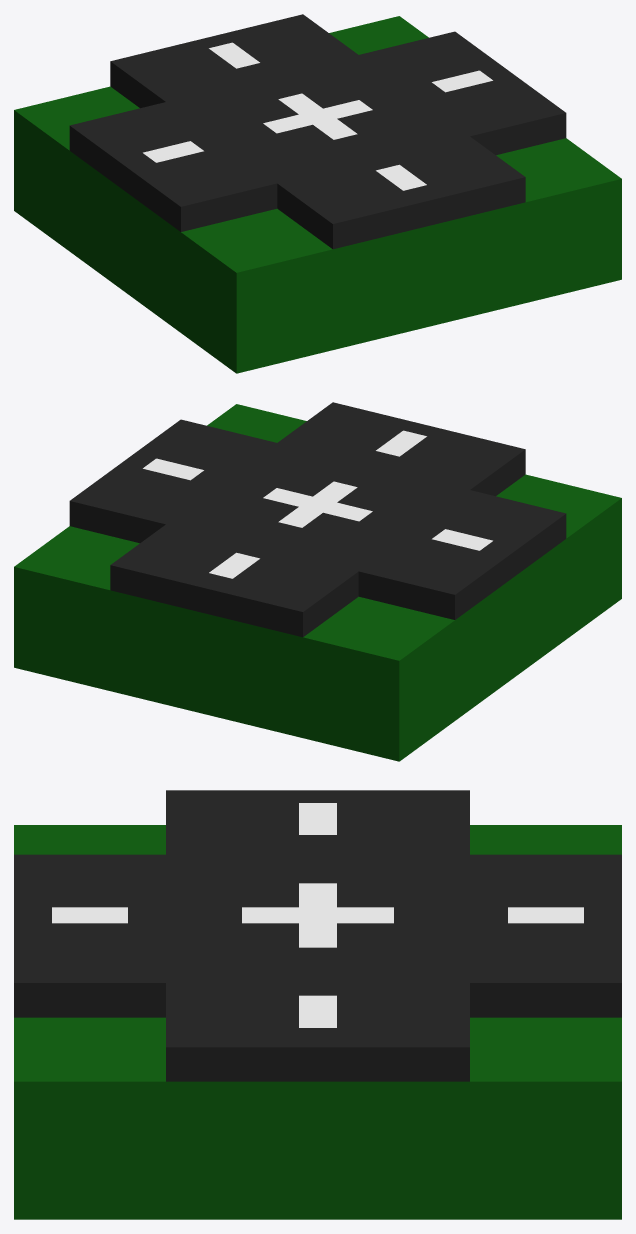
The model's file is crossing.obj.
3 renders of one model, top to bottom at view 1: azimuth 30°, elevation 25°; view 2: azimuth 150°, elevation 25°; view 3: azimuth 270°, elevation 25°, orthographic. The views are drawn at different scales.
Visible parts, largest first — view 1: grass, road, plane; view 2: grass, road, plane; view 3: road, grass, plane.
Part boxes in pixels (bbox=[...]): grass: bbox=[14, 16, 621, 373]; road: bbox=[69, 14, 566, 249]; plane: bbox=[143, 42, 492, 190]; grass: bbox=[14, 404, 621, 761]; road: bbox=[69, 402, 566, 637]; plane: bbox=[143, 430, 492, 578]; road: bbox=[14, 790, 621, 1081]; grass: bbox=[14, 825, 621, 1219]; plane: bbox=[52, 803, 583, 1027].
Size of the model in its own units: 0.25 by 0.0797 by 0.25.
Materials: 1 (1 with a texture image).
